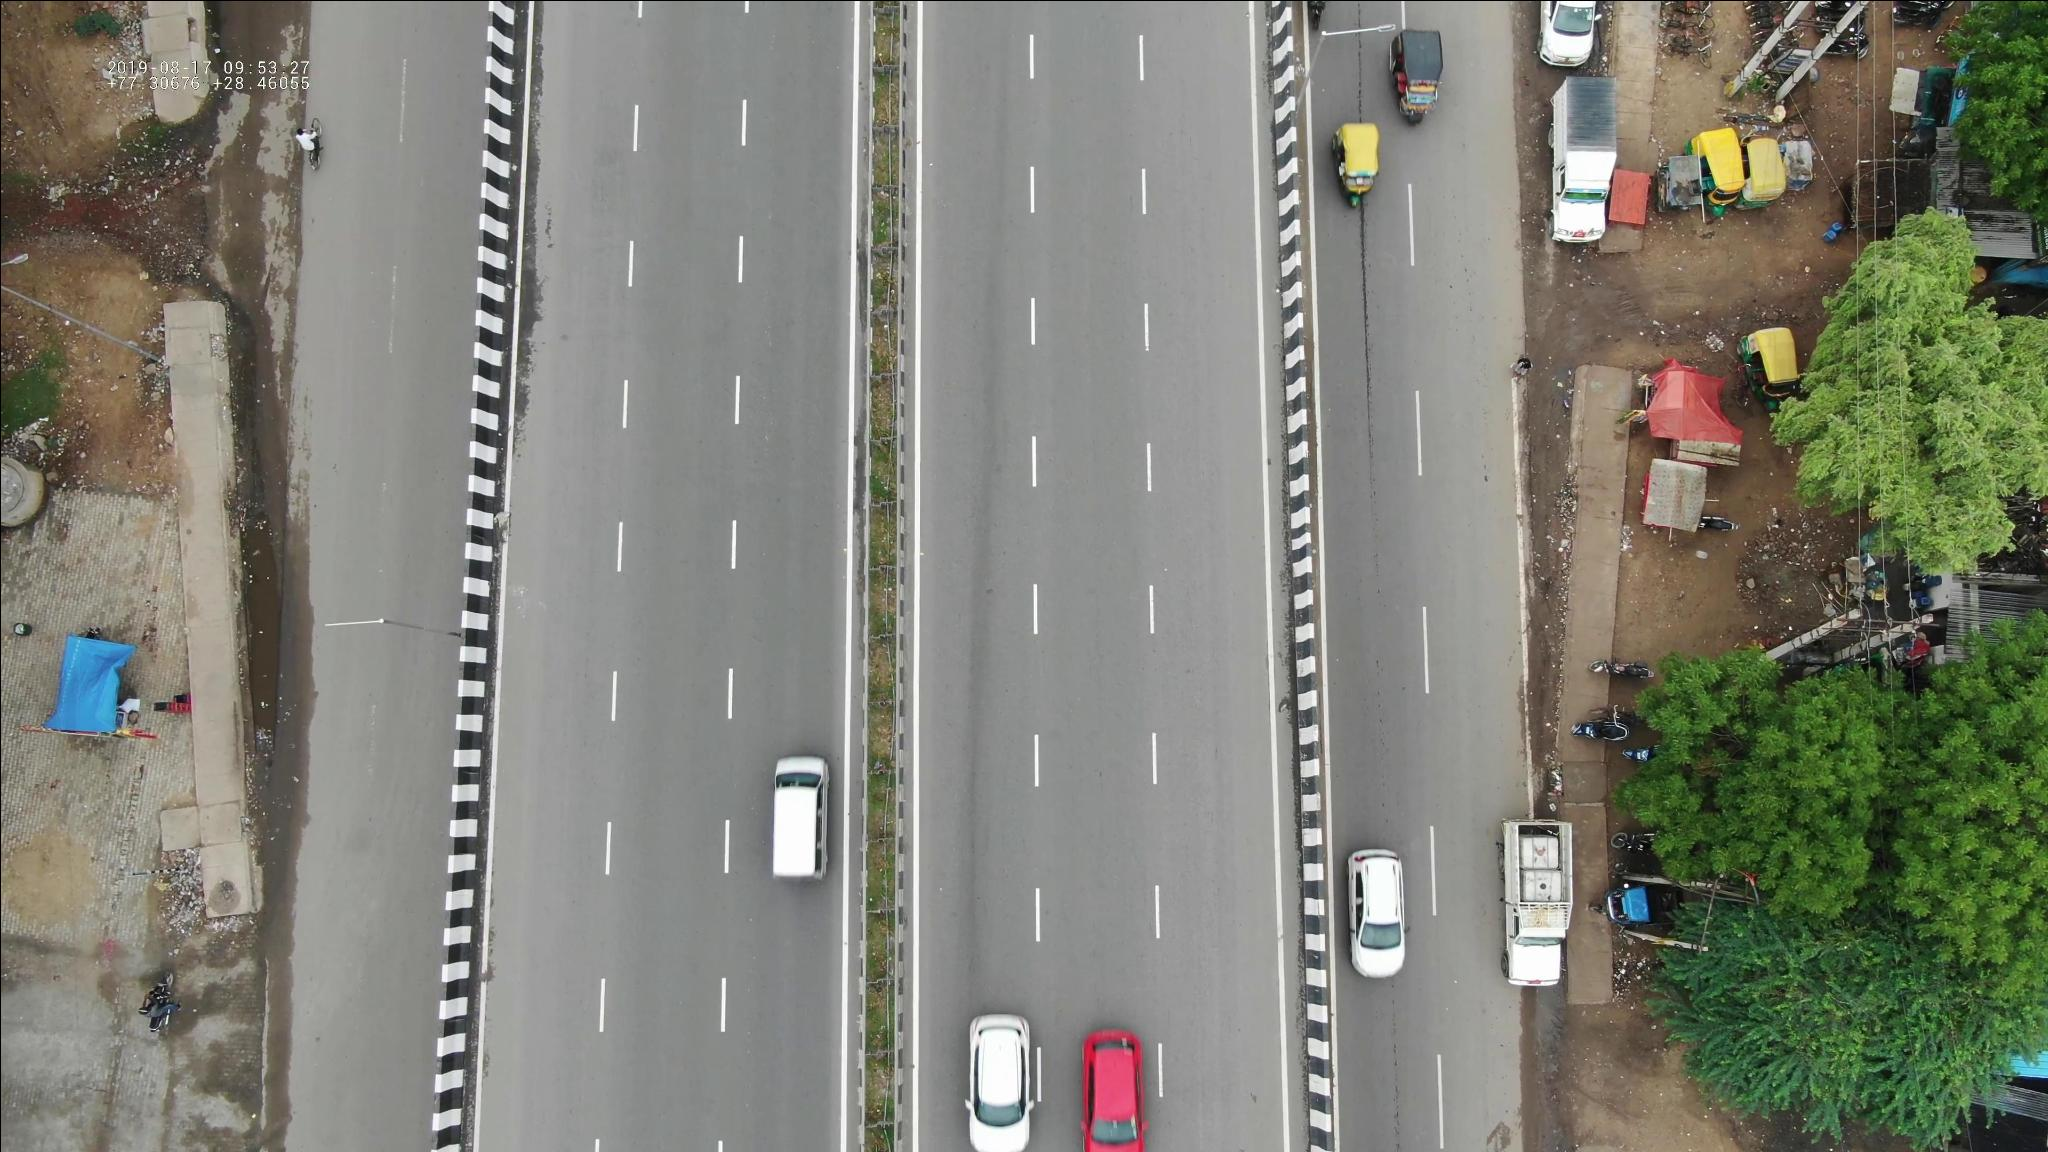Muddy_road: (1506, 409, 1580, 563), (1509, 577, 1578, 738)
Ravelling: (1338, 211, 1385, 475), (1333, 6, 1369, 118)
Waterlogging: (232, 516, 304, 764)
